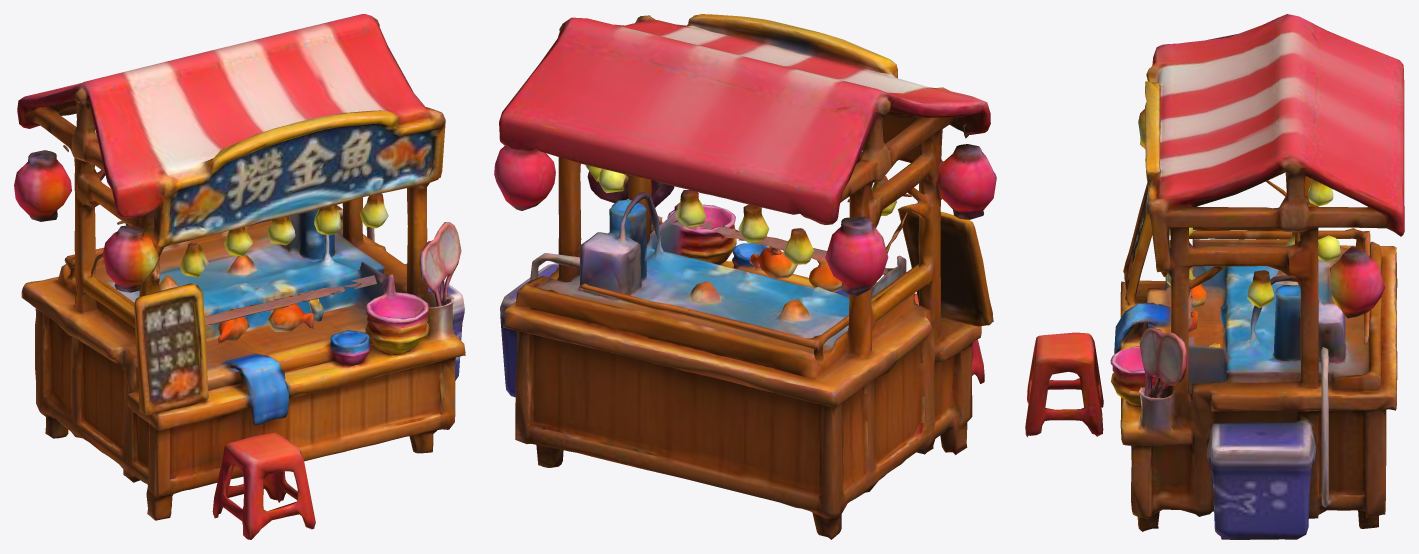
Rendered from stall-fish-lite.glb.
The picture shows the model from 3 angles, left to right: view 1: azimuth 30°, elevation 25°; view 2: azimuth 150°, elevation 25°; view 3: azimuth 270°, elevation 25°; orthographic projection. The views are drawn at different scales.
Visible parts, largest first — view 1: tripo_node_93a7506a-9250-4ad6-b736-ddeeac24312f; view 2: tripo_node_93a7506a-9250-4ad6-b736-ddeeac24312f; view 3: tripo_node_93a7506a-9250-4ad6-b736-ddeeac24312f.
Part boxes in pixels (box(x1,y1,x2,y2)): tripo_node_93a7506a-9250-4ad6-b736-ddeeac24312f: box(14, 14, 465, 539); tripo_node_93a7506a-9250-4ad6-b736-ddeeac24312f: box(494, 14, 996, 539); tripo_node_93a7506a-9250-4ad6-b736-ddeeac24312f: box(1025, 14, 1404, 539).
Size of the model in its own units: 0.9945 by 0.9449 by 0.8427.
Materials: 1 (1 with a texture image).
